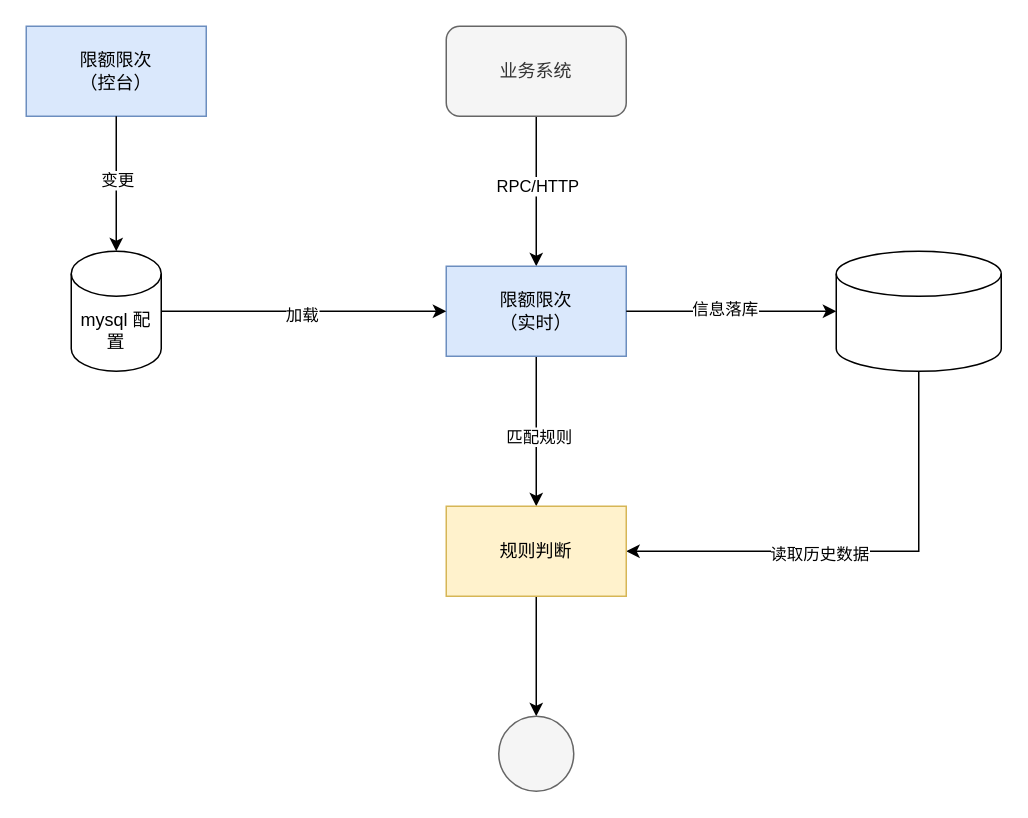
This 1028x818 diagram has some shape labels left out. Here are the shapes that lost their labels. From the top down, the centre of each, then its label:
the point at 918,310: 分布式数据库
the point at 535,753: 返回结果
